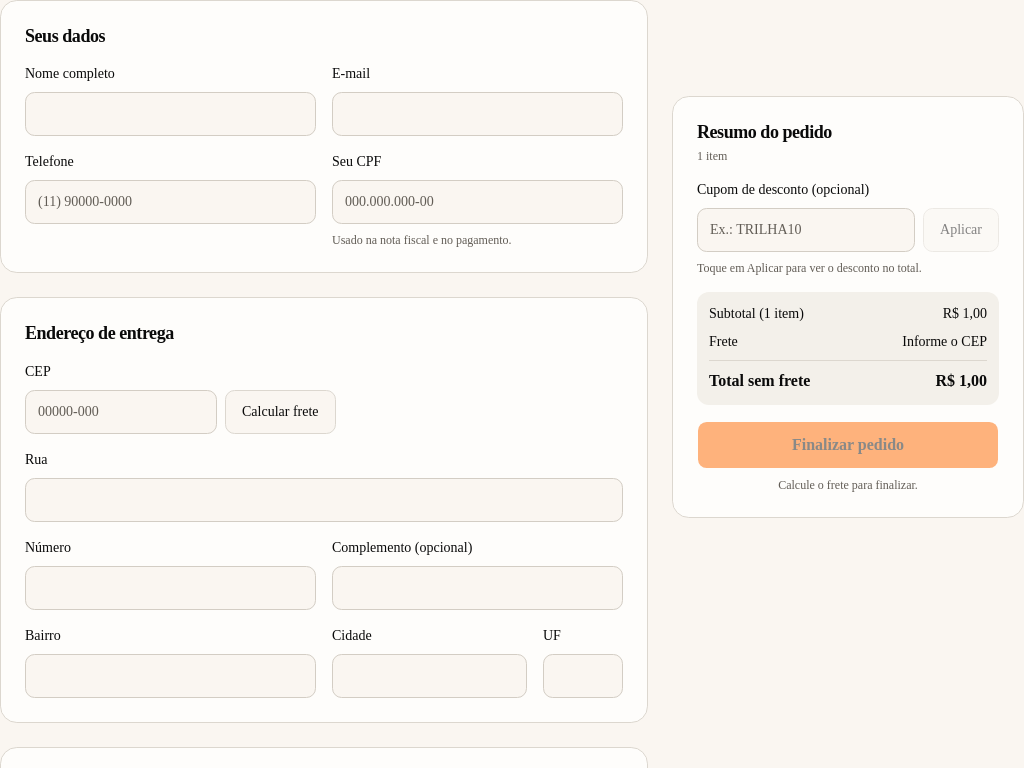
Scenario: links field errors and focuses the first wrong field when validation fails
Type "01001000" into the field labelled "CEP" at (121, 412), box [25, 390, 217, 434]
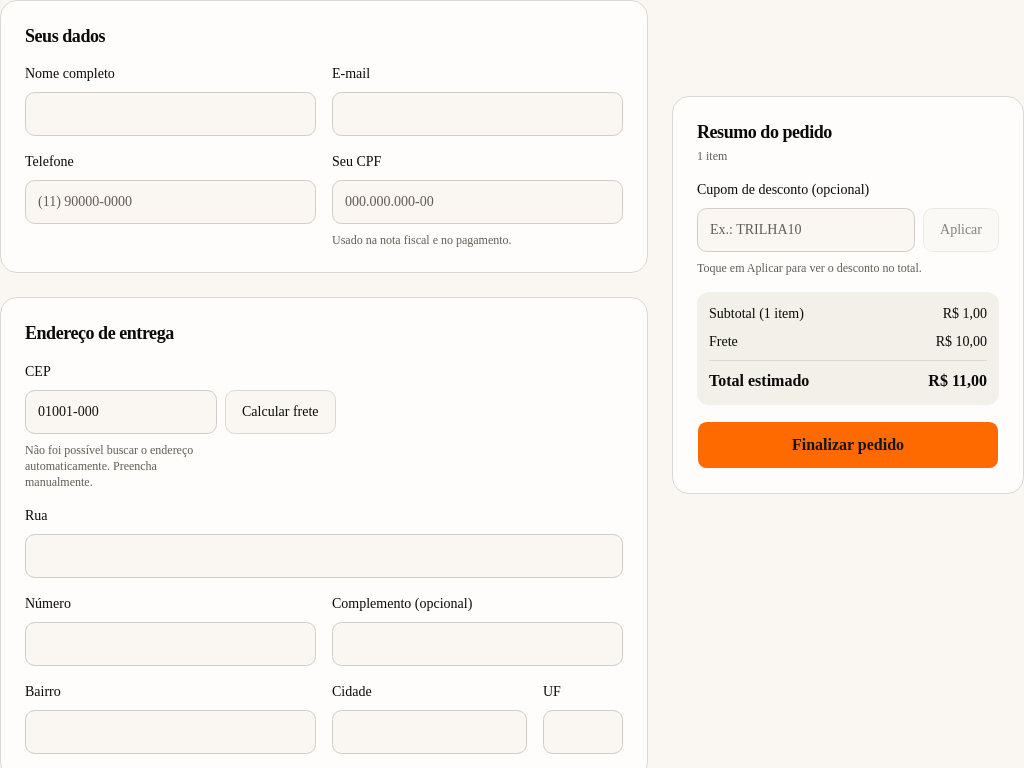
Type "11111111111" into the field labelled "Seu CPF" at (478, 202), box [332, 180, 623, 224]
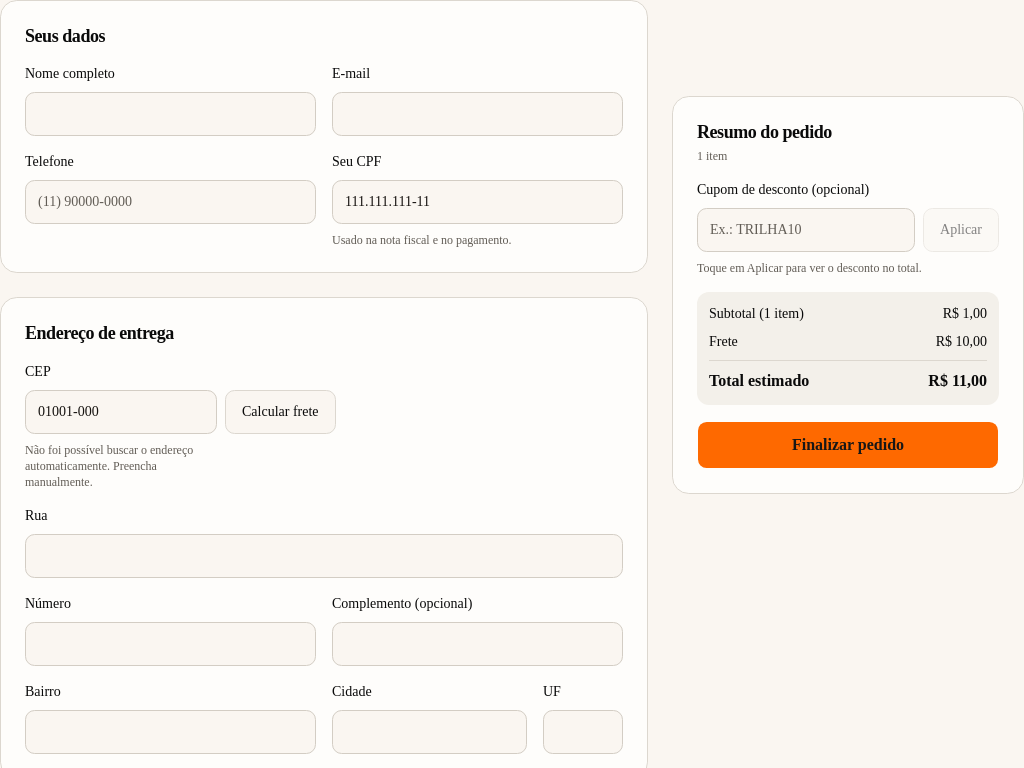
Result: the field labelled "Seu CPF" holds "111.111.111-11" at [332, 180, 623, 224]
Click the button "Finalizar pedido" at (848, 445), box [697, 421, 999, 469]
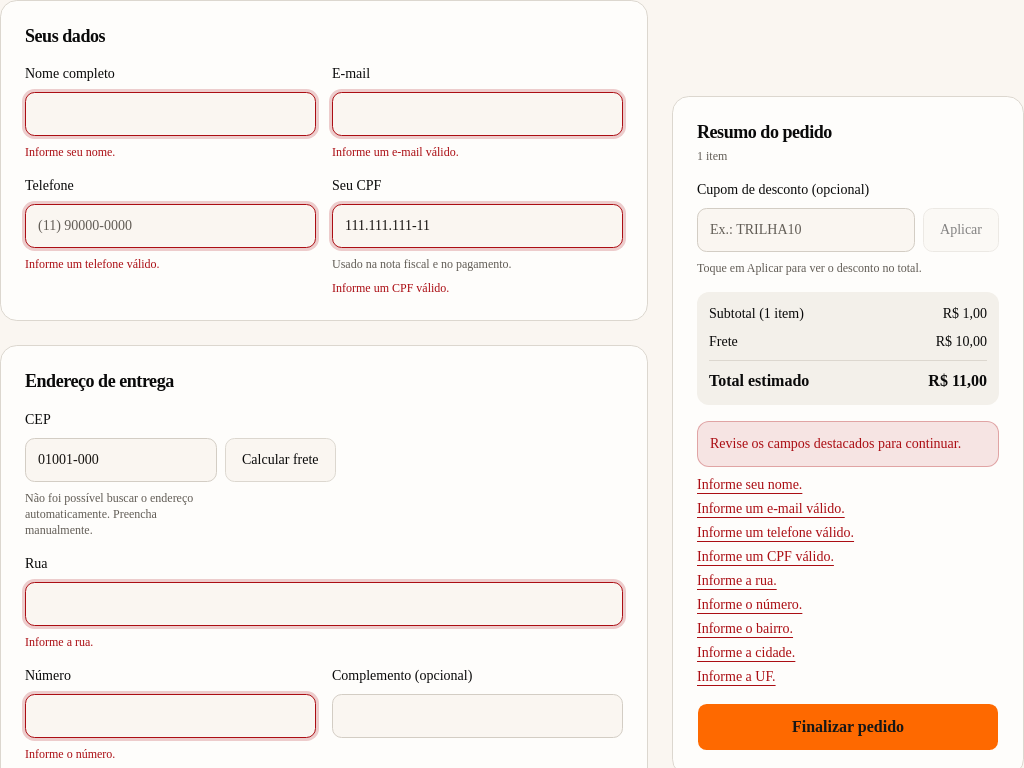
Result: the text "Revise os campos destacados para continuar." is shown at [697, 421, 999, 467]
Result: the text "Informe um CPF válido." is shown at [332, 281, 449, 295]
